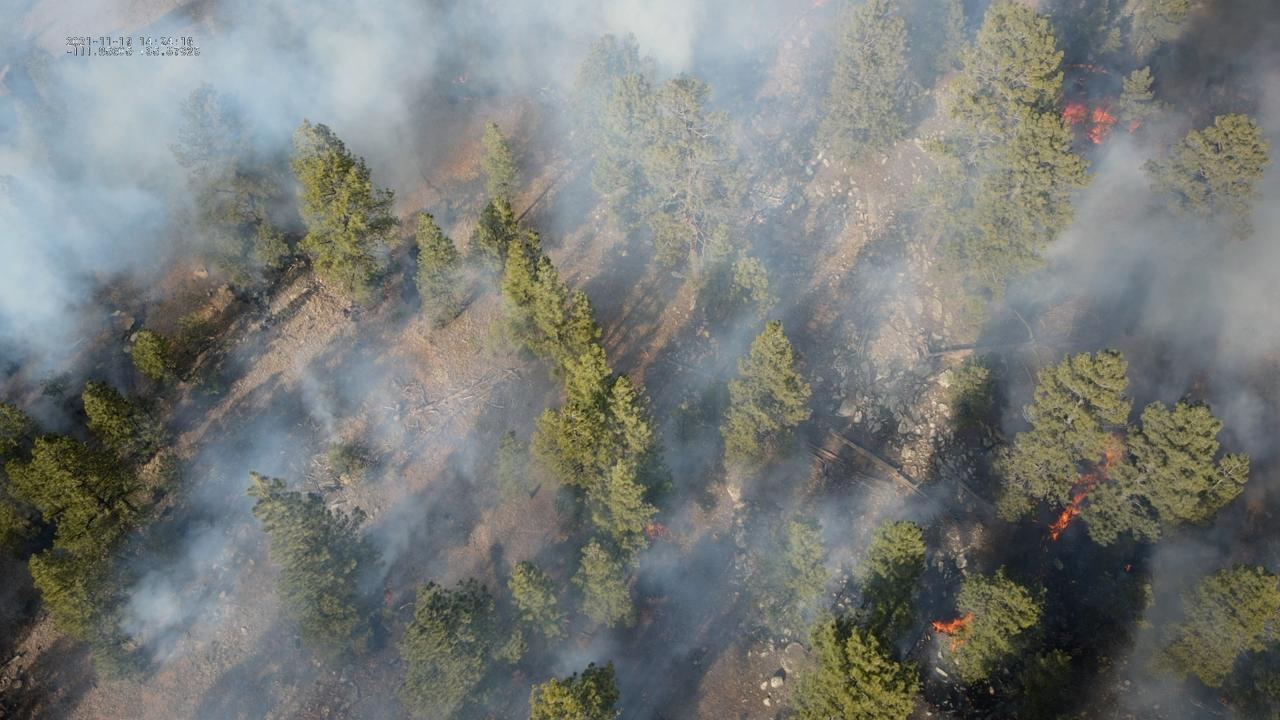fire: (1053, 427, 1139, 541), (1059, 94, 1126, 141), (931, 611, 979, 637), (644, 520, 669, 544), (1071, 63, 1110, 75), (382, 591, 395, 607), (1124, 564, 1131, 571)
smoke: (0, 0, 1280, 720), (1112, 544, 1231, 720)
